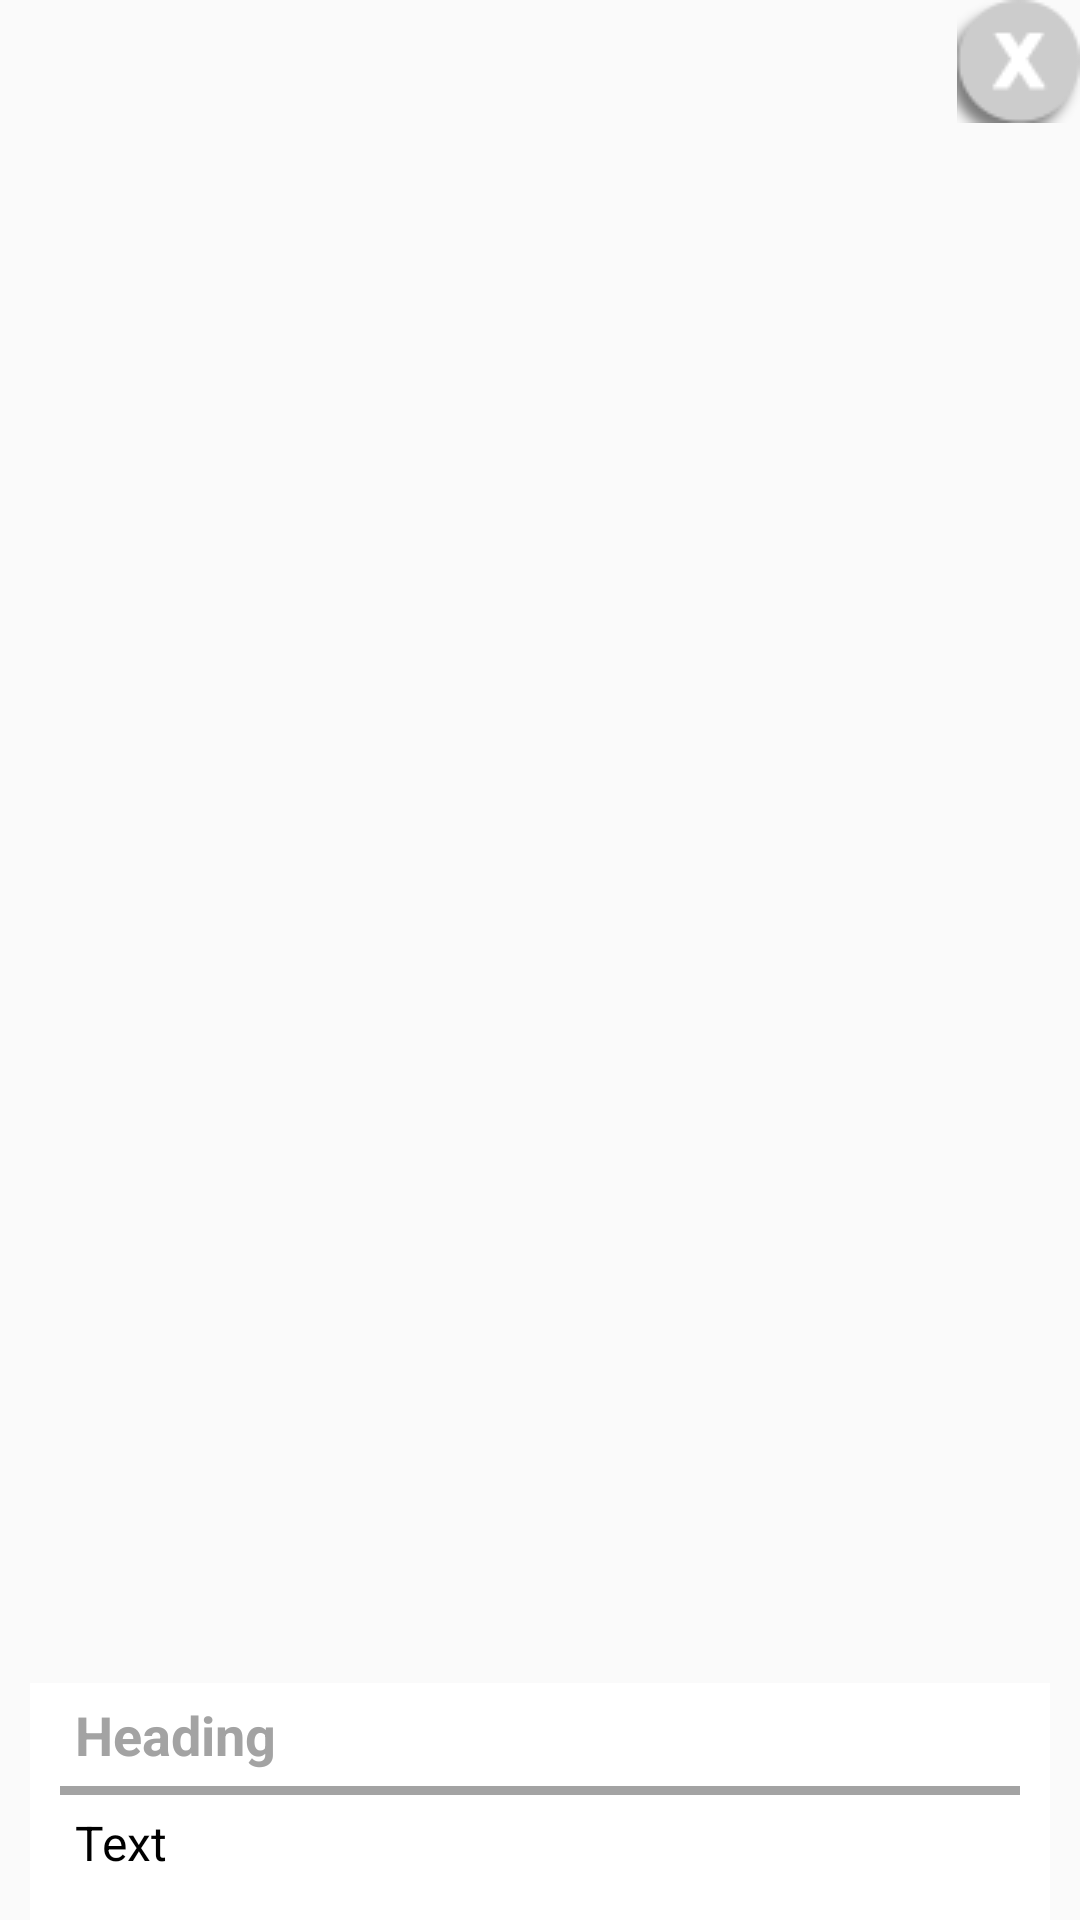

Point at icon controls on the screen. Image size 1080px x 1920px, points as [x,y].
close: [1018,61]
